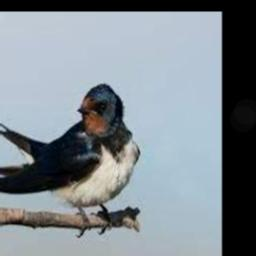Swallow: (0, 84, 138, 232)
